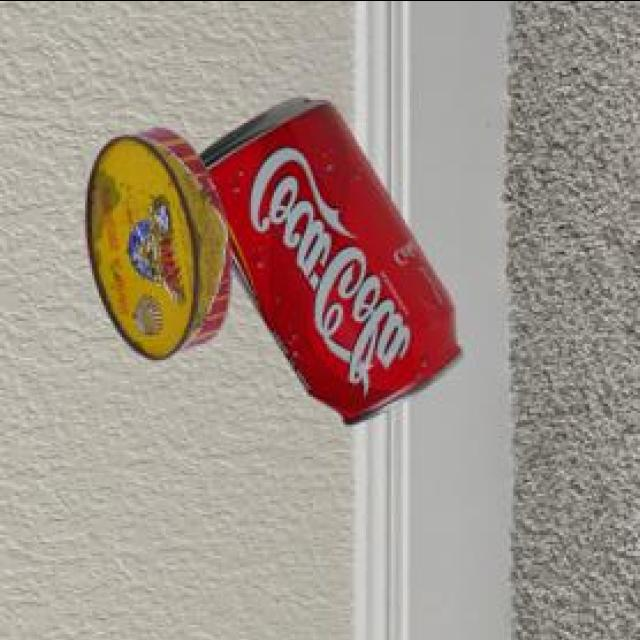logam: (197, 93, 459, 420), (82, 123, 227, 356)
